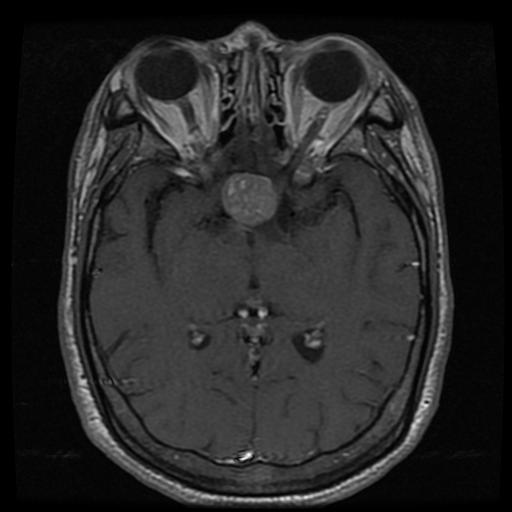Pituirity_tumour: (223, 173, 277, 222)
